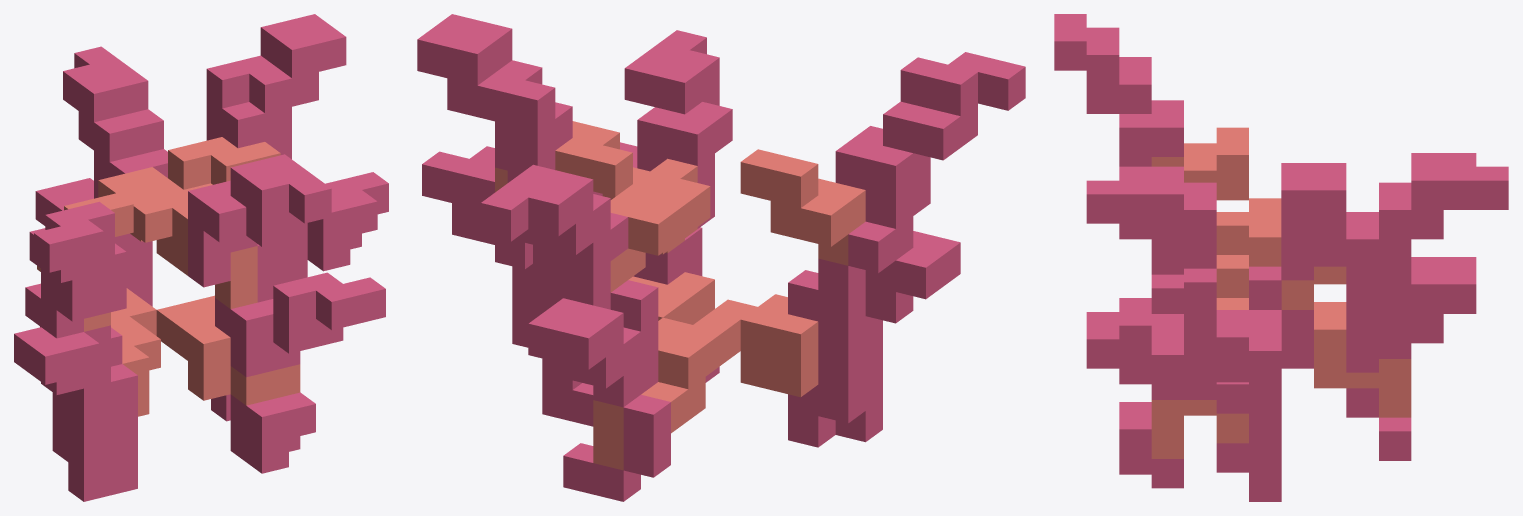
The model's file is red_algae.glb.
3 views of the same model, side by side, from view 1: azimuth 30°, elevation 25°; view 2: azimuth 150°, elevation 25°; view 3: azimuth 270°, elevation 25° (orthographic). The views are drawn at different scales.
Size of the model in its own units: 0.6667 by 0.5 by 0.5833.
